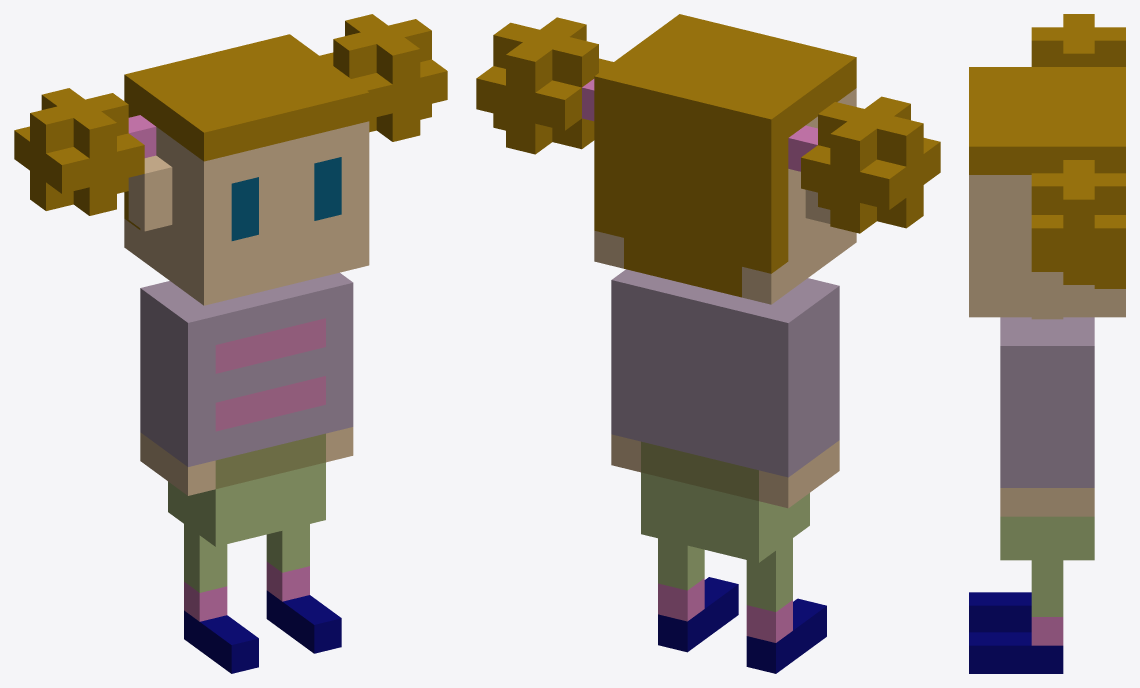
Rendered from Kid00.gltf.
3 views of the same model, side by side, from view 1: azimuth 30°, elevation 25°; view 2: azimuth 150°, elevation 25°; view 3: azimuth 270°, elevation 25° (orthographic). The views are drawn at different scales.
Size of the model in its own units: 14 by 19 by 5.
